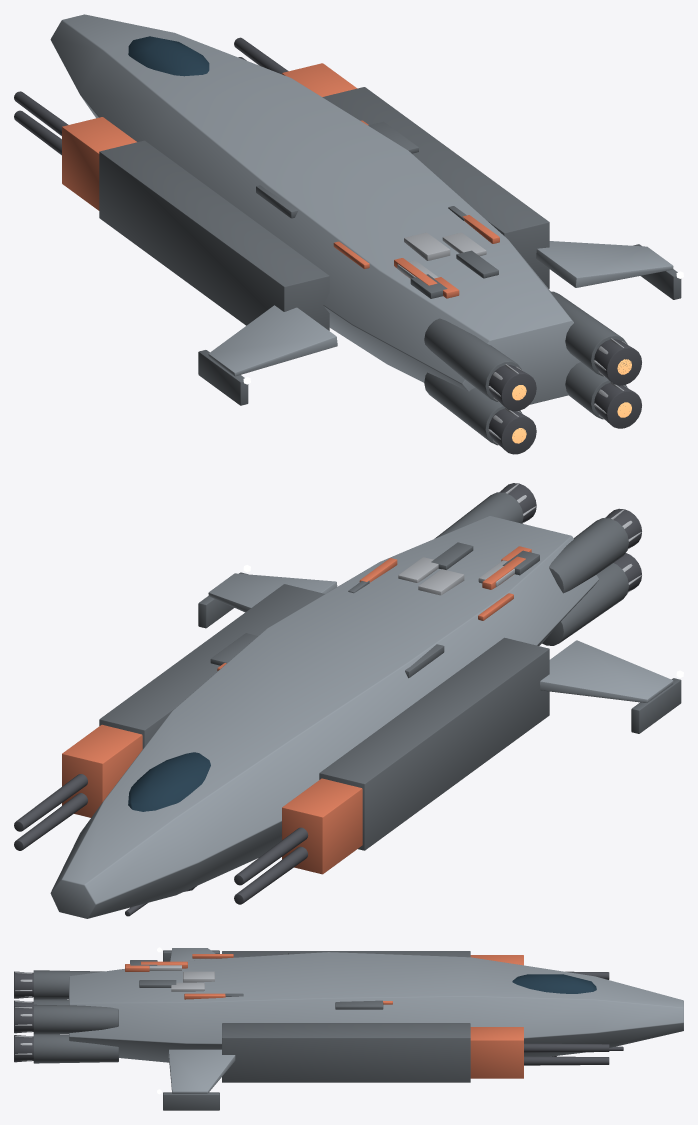
File: ship_hammer.glb
3 views of the same model, one above another, from view 1: azimuth 30°, elevation 25°; view 2: azimuth 150°, elevation 25°; view 3: azimuth 270°, elevation 25° (orthographic). The views are drawn at different scales.
Visible parts, largest first — view 1: ShipHammer; view 2: ShipHammer; view 3: ShipHammer.
Part boxes in pixels (x1,y1,x2,y2): ShipHammer: (14,14,683,454); ShipHammer: (14,483,683,918); ShipHammer: (14,947,683,1110).
Size of the model in its own units: 9.62 by 2.7 by 18.85.
